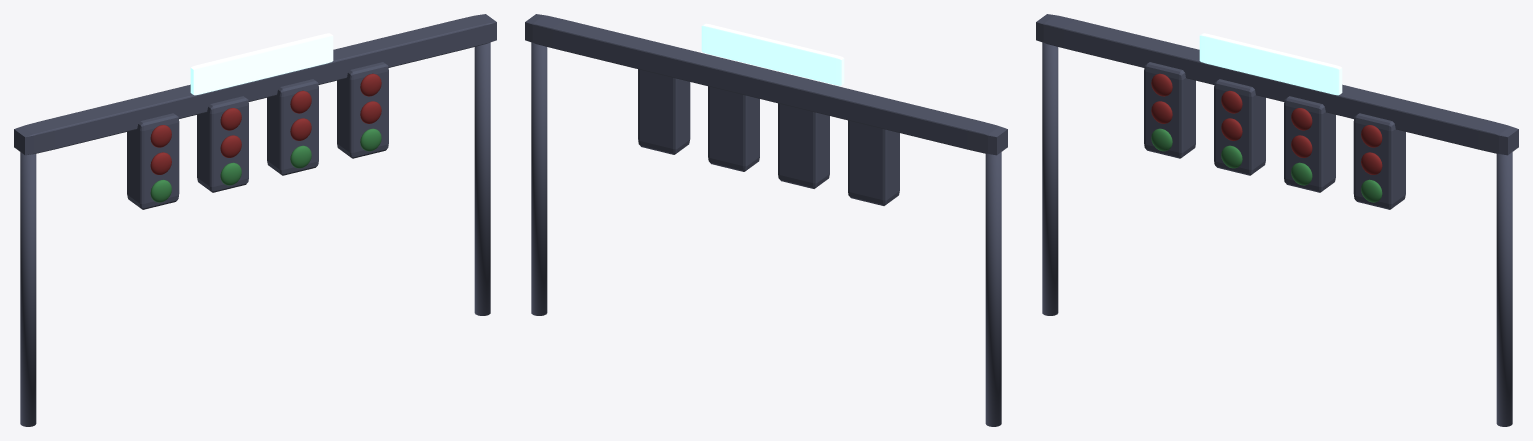
File: T12_Start_Lights.glb
3 renders of one model, left to right at view 1: azimuth 30°, elevation 25°; view 2: azimuth 150°, elevation 25°; view 3: azimuth 330°, elevation 25°, orthographic.
Parts seen in each view (by area): view 1: T12_Start_Lights_Mesh; view 2: T12_Start_Lights_Mesh; view 3: T12_Start_Lights_Mesh.
Boxes of the visible parts, bbox=[...] form: T12_Start_Lights_Mesh: bbox=[14, 14, 496, 426]; T12_Start_Lights_Mesh: bbox=[525, 14, 1007, 426]; T12_Start_Lights_Mesh: bbox=[1036, 14, 1518, 426].
Size of the model in its own units: 10.8 by 7.05 by 0.77.
